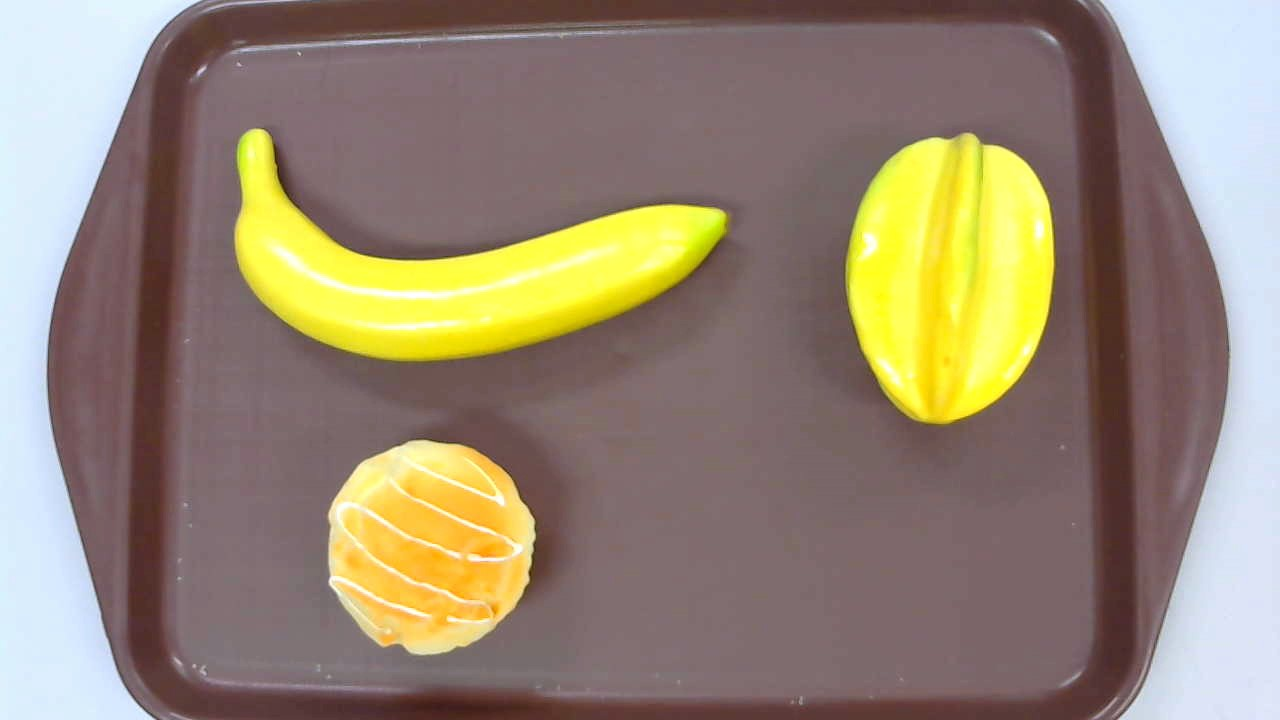banana: (233, 128, 732, 366)
cupcake: (327, 440, 538, 653)
star fruit: (843, 133, 1054, 426)
